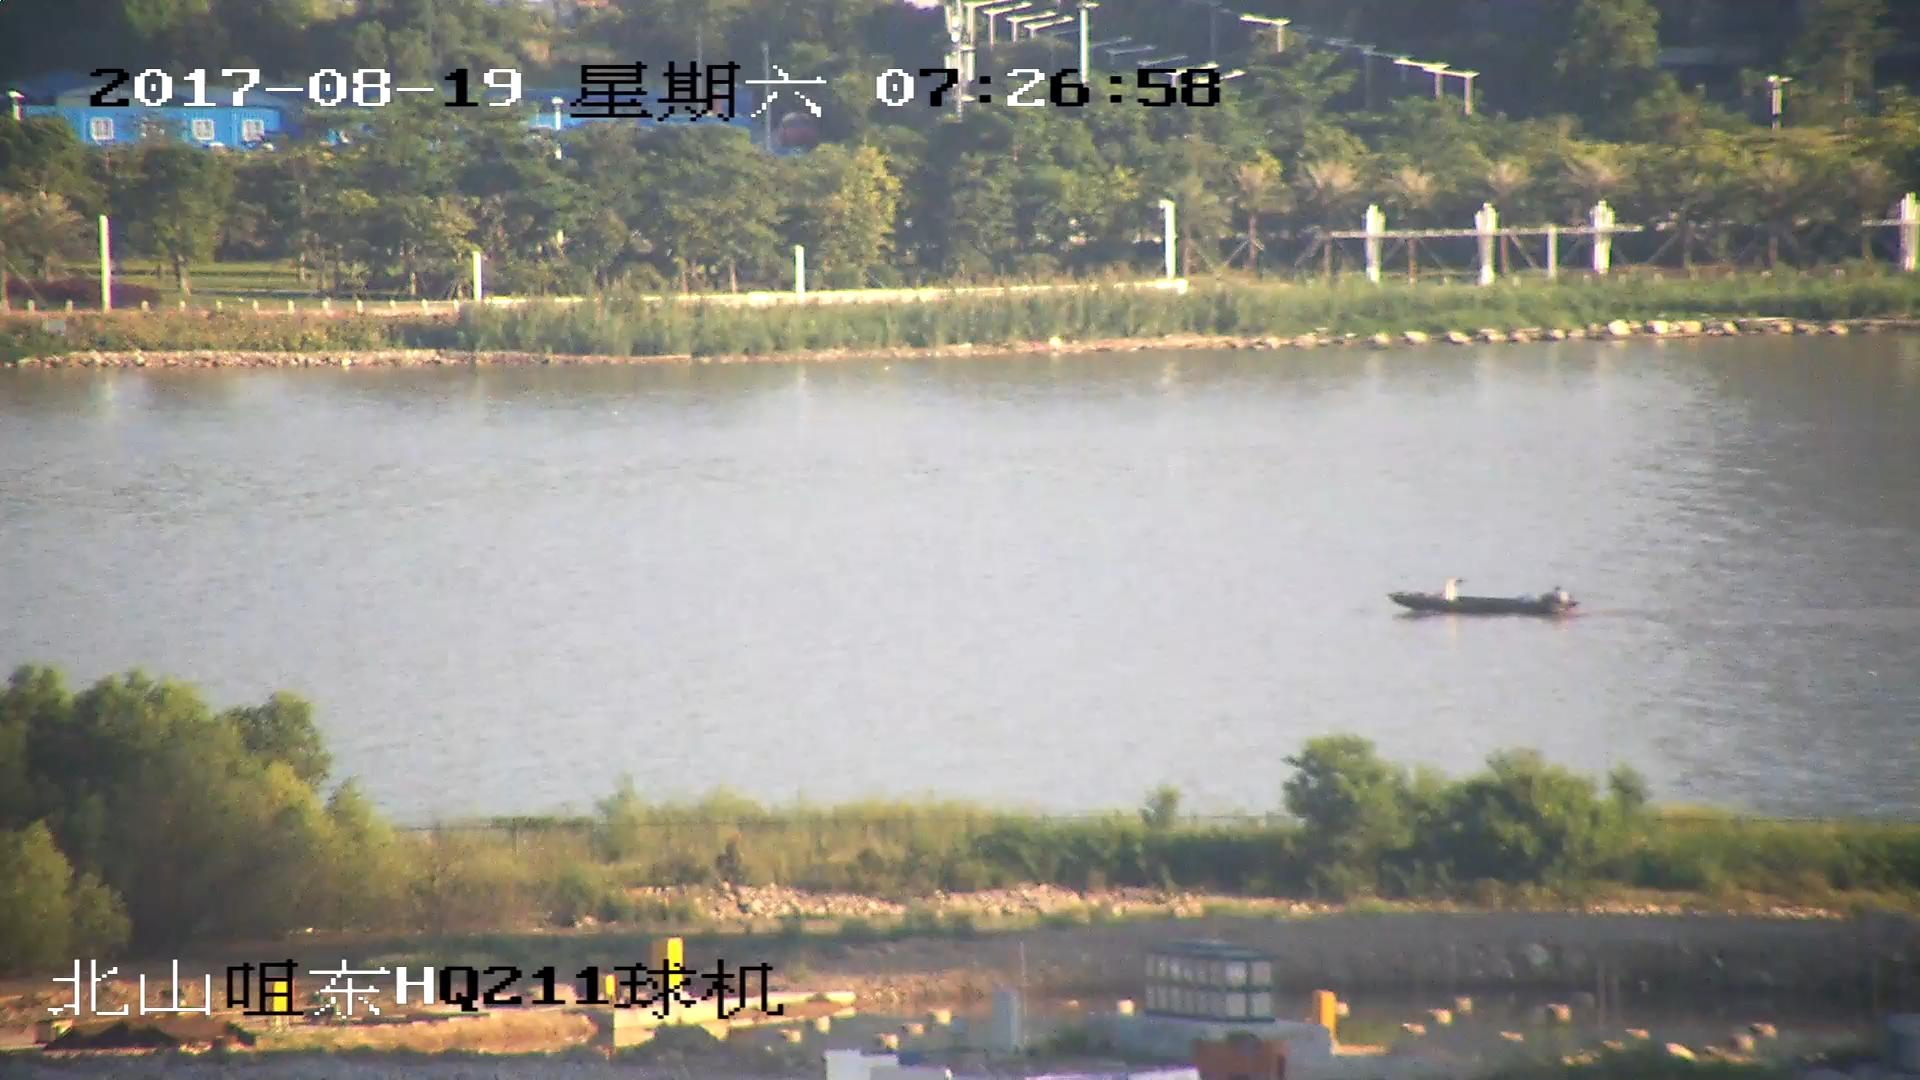fishing boat: (1394, 579, 1572, 618)
